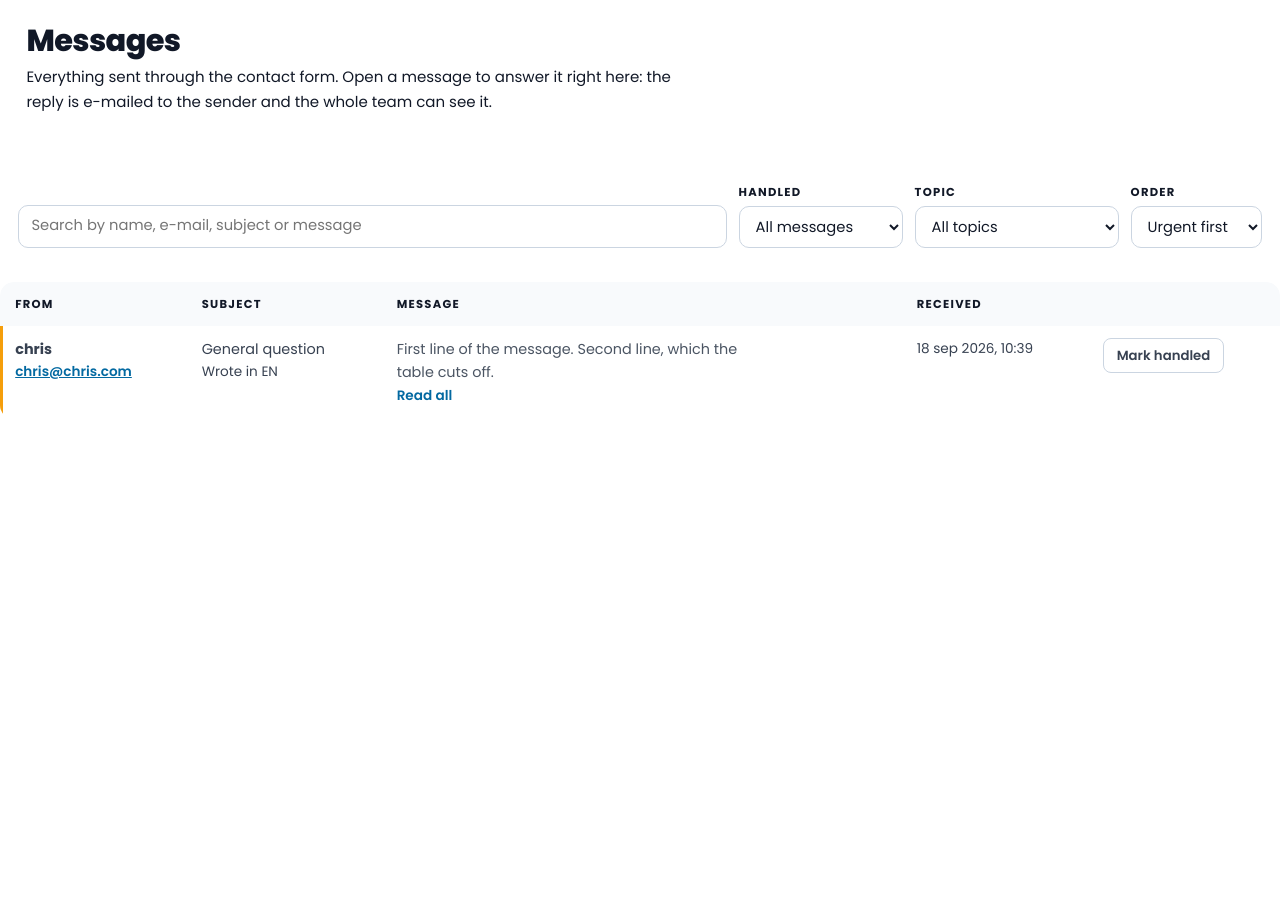
it: the messages pop-up › keeps the text and says so when the e-mail could not be sent
This screenshot has width=1280, height=900.
Click the button "Read all" at [424, 396], box [397,385,452,407]
(page scrolled)
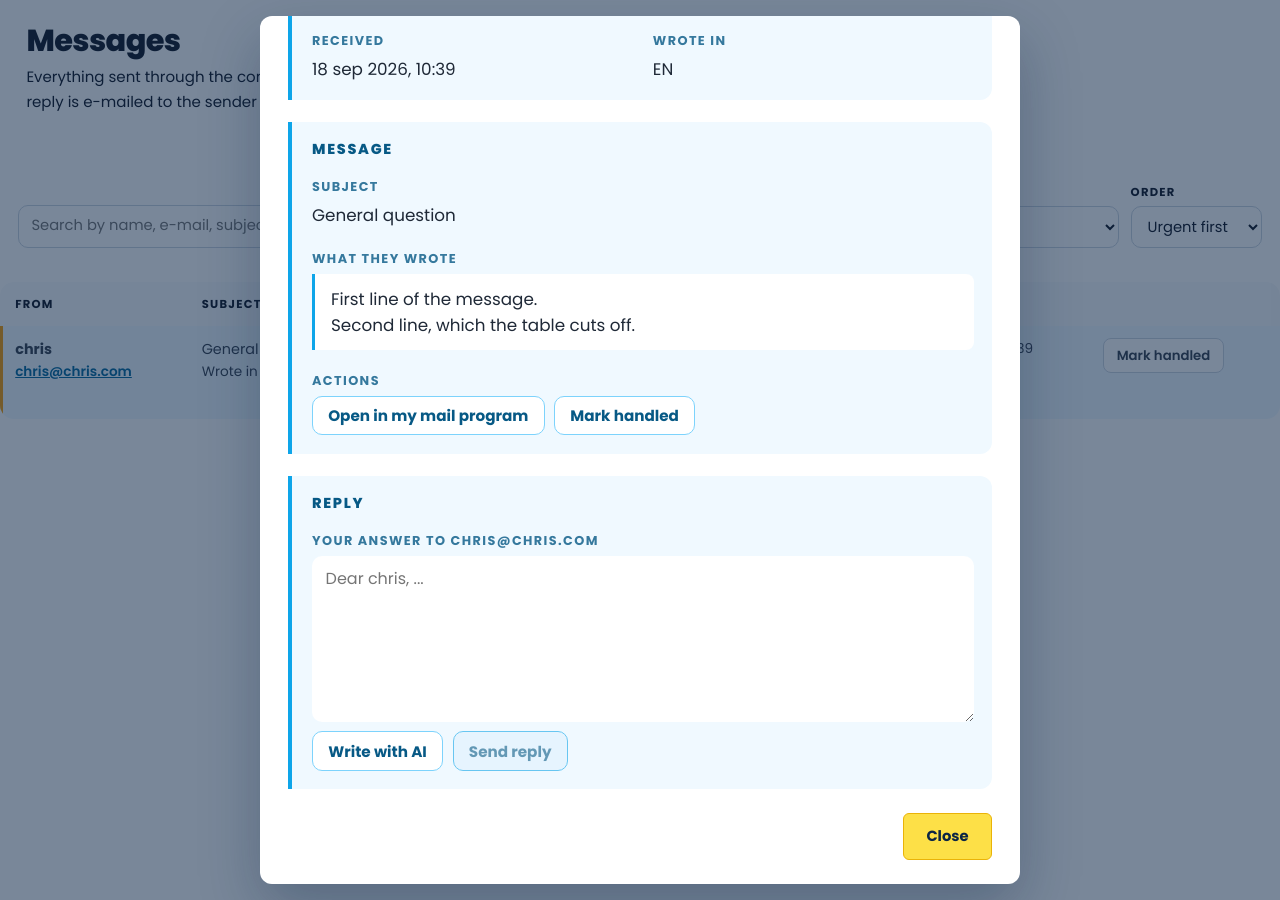
Type "Hello" into the text box named "Your answer to chris@chris.com" at [643, 639], box [312,556,974,722]
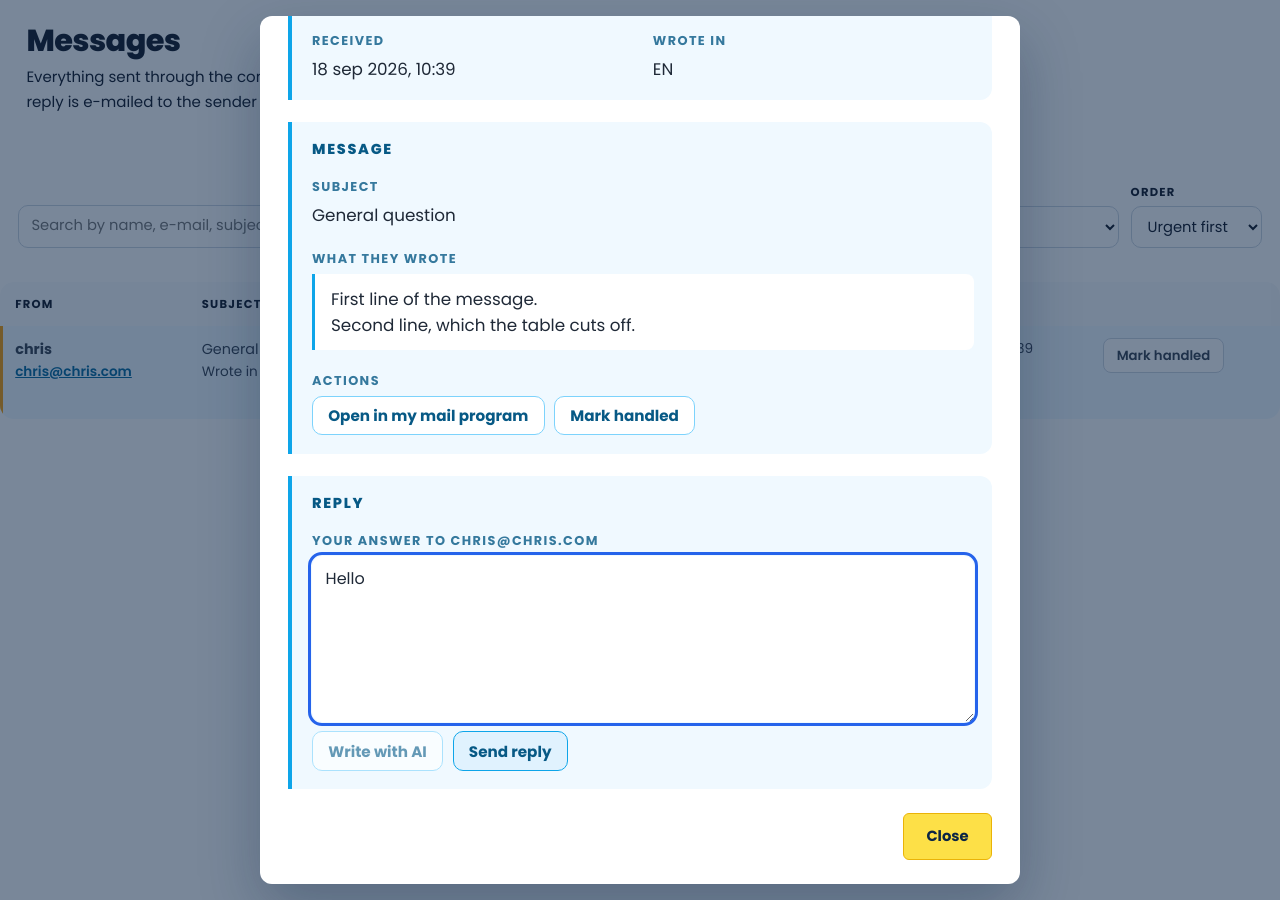
Click the button "Send reply" at [510, 751], box [453,732,568,771]
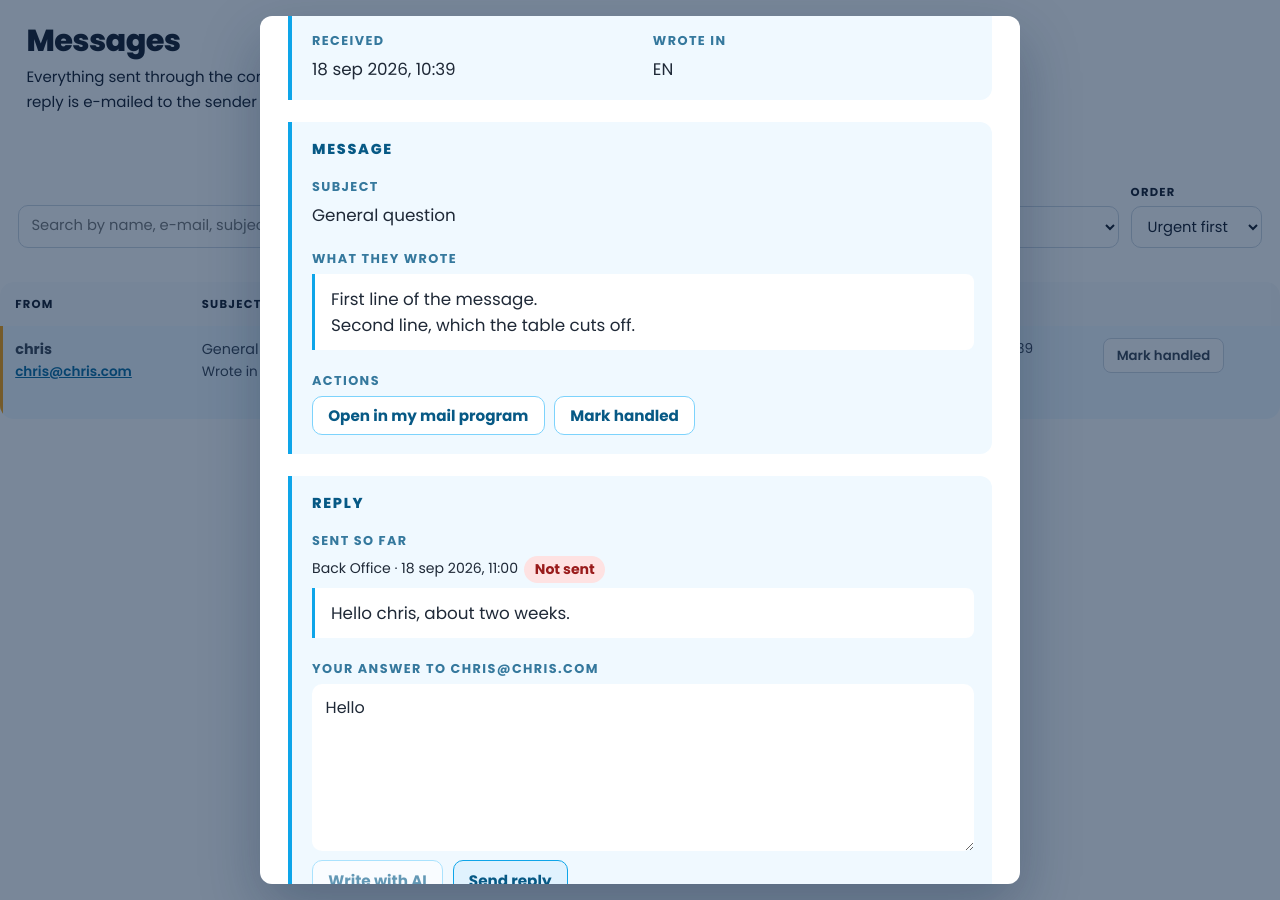
Expected: the text "Not sent" is shown, [524,556,605,583]
